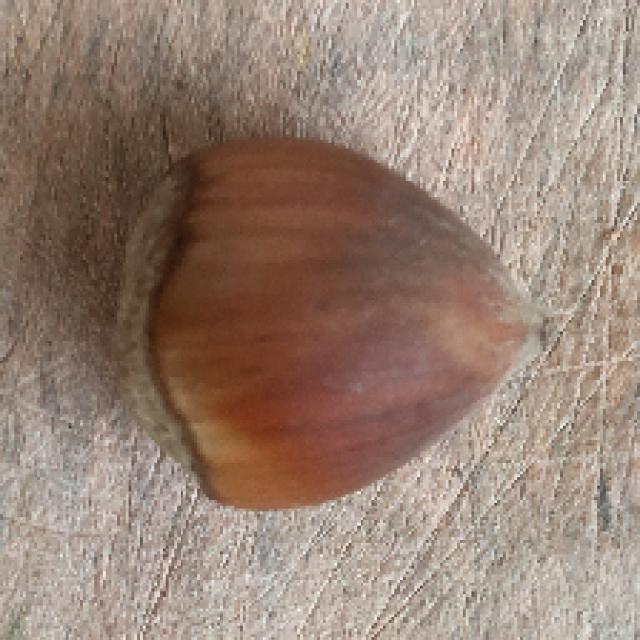damagedHazelnut: (119, 138, 538, 514)
